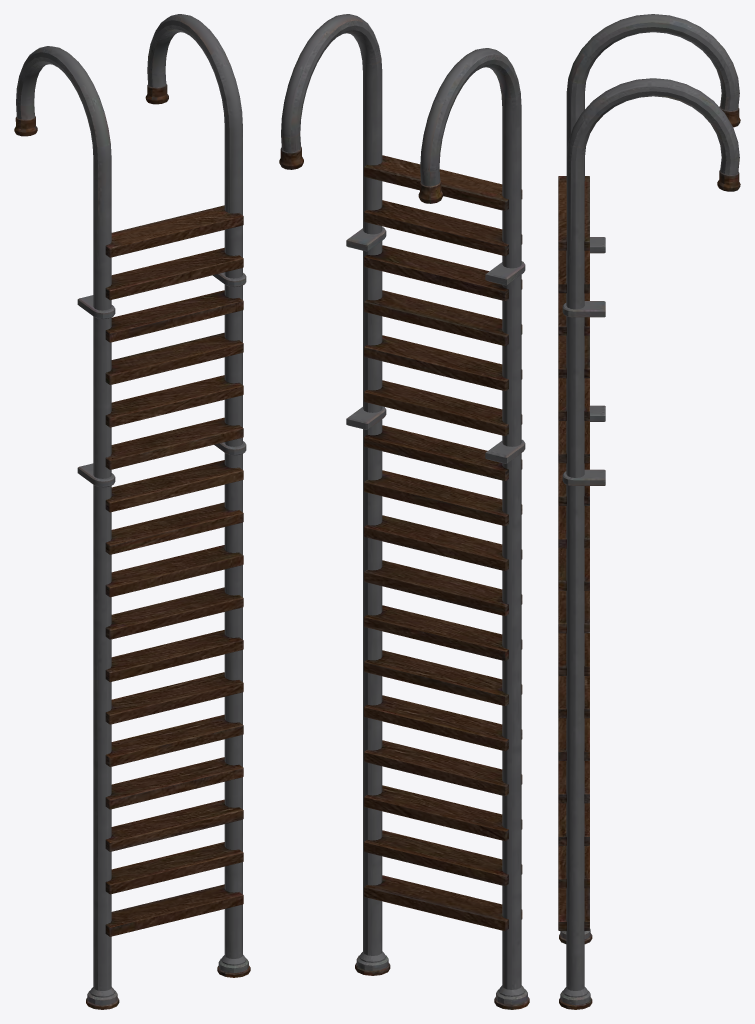
The model's file is hook-ladder.gltf.
3 renders of one model, left to right at view 1: azimuth 30°, elevation 25°; view 2: azimuth 150°, elevation 25°; view 3: azimuth 270°, elevation 25°, orthographic. The views are drawn at different scales.
Parts seen in each view (by area): view 1: Sketchfab_model; view 2: Sketchfab_model; view 3: Sketchfab_model.
Part boxes in pixels (x1,y1,x2,y2): Sketchfab_model: (14,14,250,1009); Sketchfab_model: (279,14,529,1009); Sketchfab_model: (558,14,740,1009).
Bounding box in the file's own units: 0.6362 × 3.5 × 0.6255.
1 material, 1 textured.
